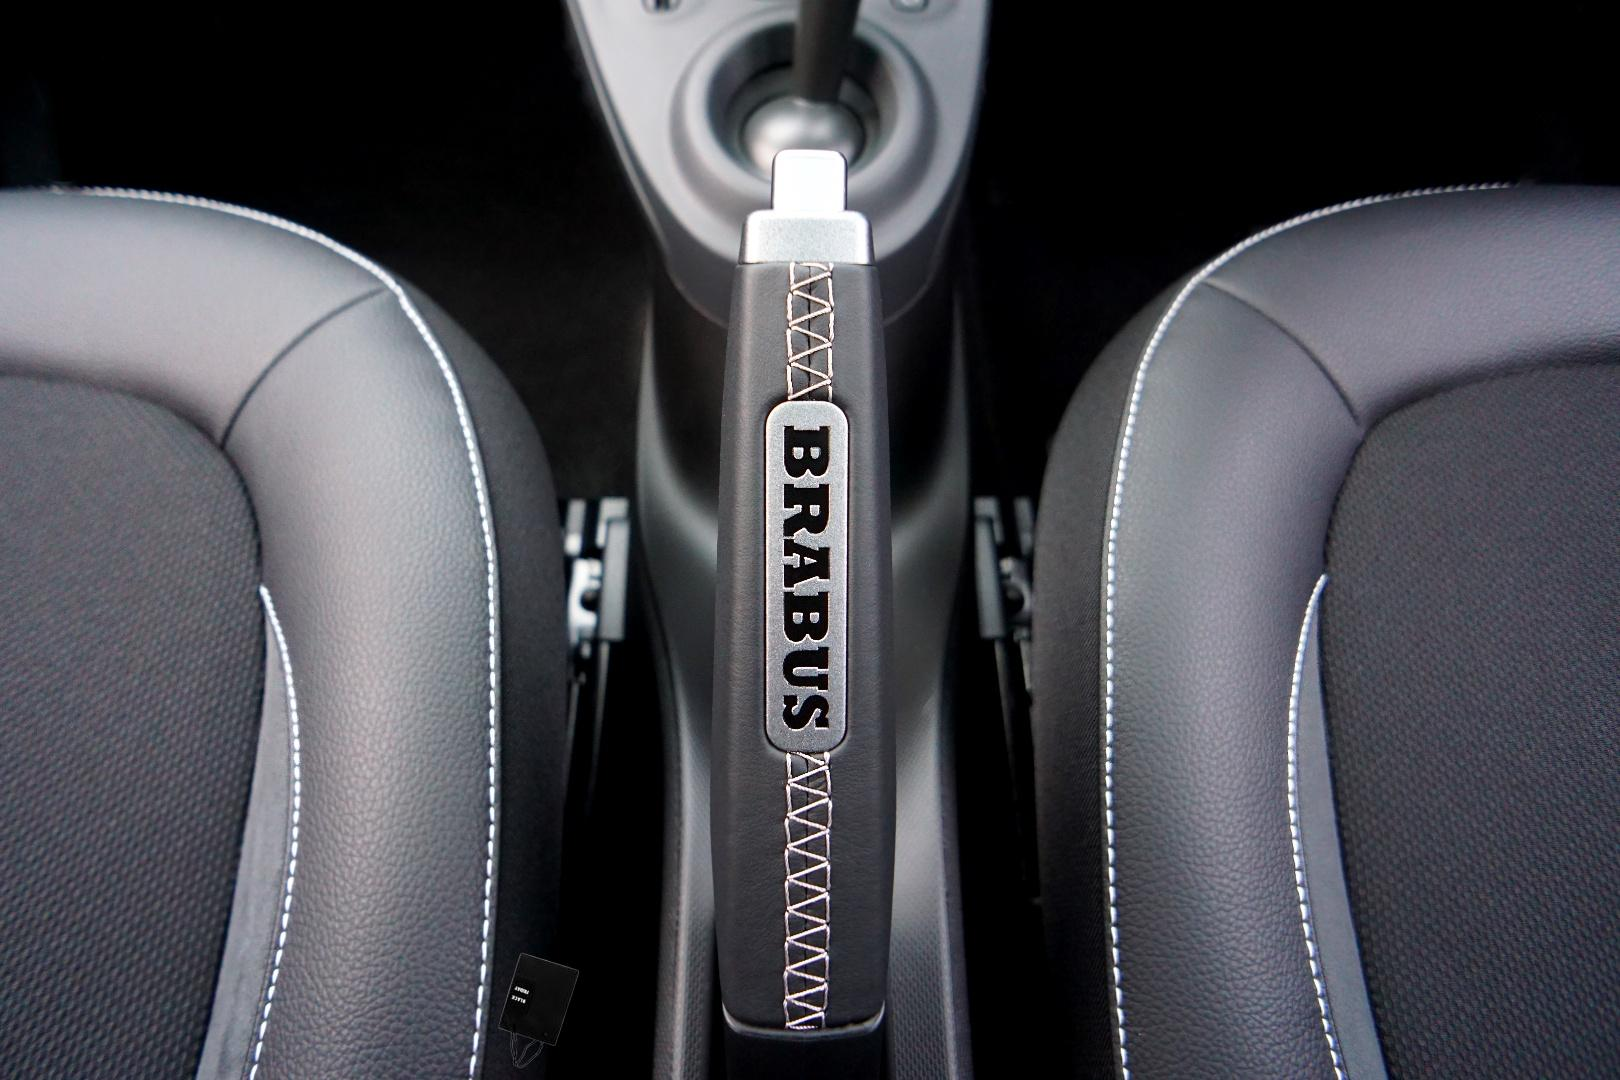paper-bag: (495, 950, 581, 1072)
